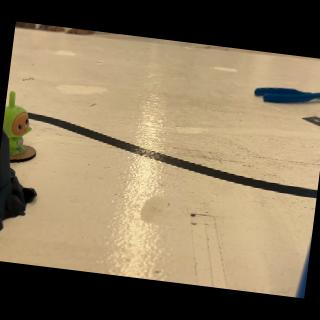teletubby: (3, 91, 32, 155)
